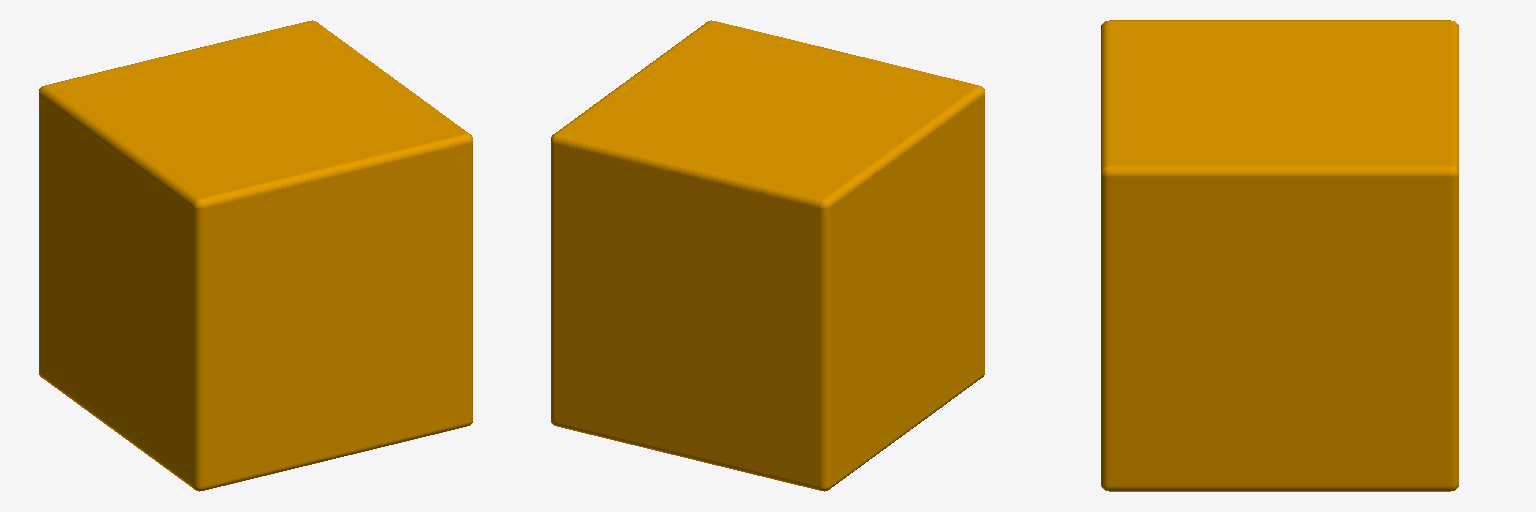
The robot description file, URDF, robot "box":
<?xml version="1.0" encoding="utf-8"?>
<!-- =================================================================================== -->
<!-- |    This document was autogenerated by xacro from cube.urdf.xacro               | -->
<!-- |    EDITING THIS FILE BY HAND IS NOT RECOMMENDED                                 | -->
<!-- =================================================================================== -->
<robot name="box">
  <link name="object_link">
    <collision>
      <origin rpy="0 0 0" xyz="0 0 0" />
      <geometry>
        <mesh filename="package://hero_gazebo/worlds/models/objects/cube/cube.stl" scale="1.08 1.08 1.08" />
      </geometry>
    </collision>
    <visual>
      <origin rpy="0 0 0" xyz="0 0 0" />
      <geometry>
        <mesh filename="package://hero_gazebo/worlds/models/objects/cube/cube.stl" scale="1.0 1.0 1.0" />
      </geometry>
    </visual>
    <inertial>
      <origin xyz="0 0 0" rpy="0 0 0" />
      <mass value="0.3" />
      <inertia ixx="0.001700" ixy="0.0" ixz="0.0" iyy="0.001700" iyz="0.0" izz="0.001700" />
    </inertial>
  </link>
  <gazebo reference="object_link">
    <!-- <static>true</static> -->
    <!-- <gravity>false</gravity> -->
    <selfCollide>true</selfCollide>
    <material>Gazebo/Orange</material>
    <mu1>0.3</mu1>
    <mu2>0.2</mu2>
    <laserRetro>1.0</laserRetro>
  </gazebo>
</robot>

--- What the picture shows (computed from the rendered views, not written in the file) ---
3 views of the same robot in one strip: view 1: azimuth 30°, elevation 25°; view 2: azimuth 150°, elevation 25°; view 3: azimuth 270°, elevation 25° (orthographic).
Robot: box — 1 links, 0 joints (none); root link object_link; default pose: every joint at zero.
Visible links, largest first — view 1: object_link; view 2: object_link; view 3: object_link.
Boxes of the visible links, x1,y1,x2,y2 form: object_link: (39,20,472,491); object_link: (551,20,984,491); object_link: (1101,20,1458,491).
Size in the robot's own frame: 0.4 by 0.4 by 0.4 metres.
Meshes: 1 distinct files referenced, 1 mesh visuals loaded (1 binary STL).
